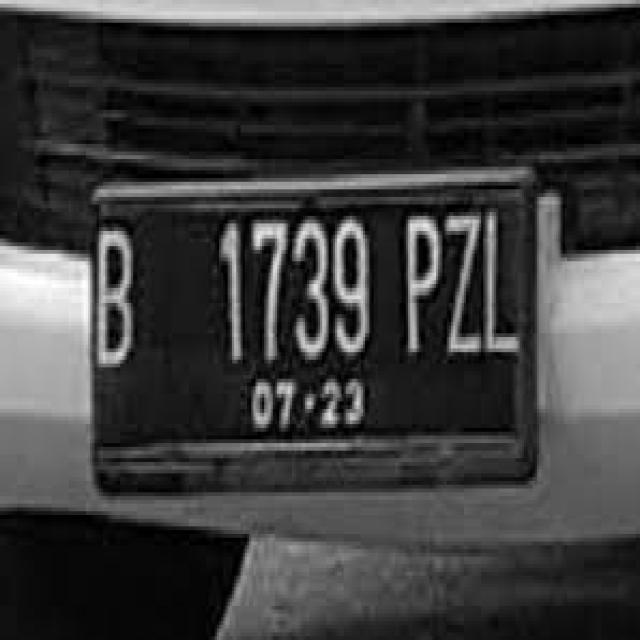license-plat: (89, 162, 532, 484)
